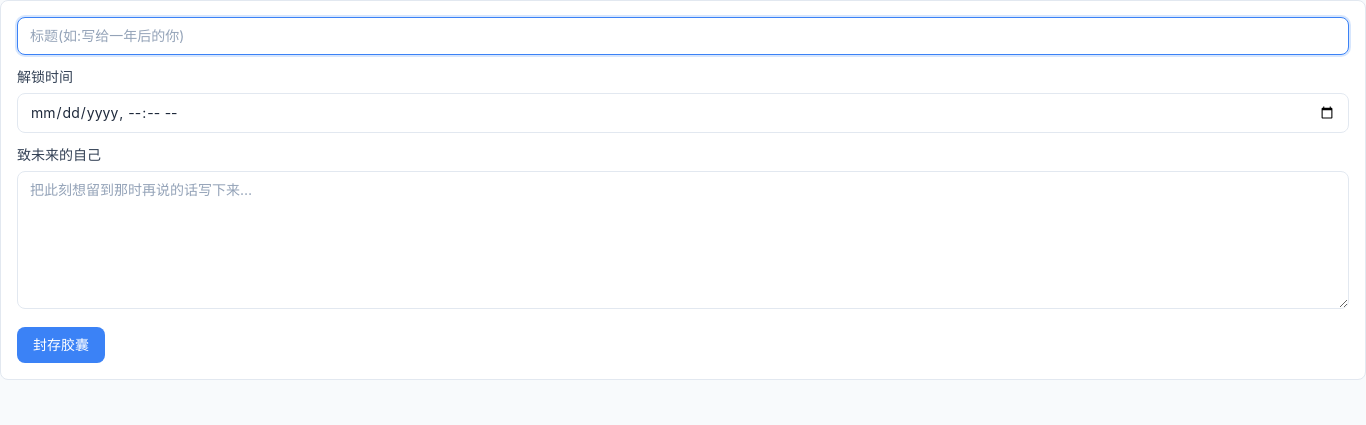
TimeCapsuleEditor › 解锁时间在过去:提交显示"解锁时间必须在未来"
Type "标题" into the field with placeholder "标题(如:写给一年后的你)". click: coordinates (683, 36)
box: x1=17 y1=17 x2=1349 y2=55
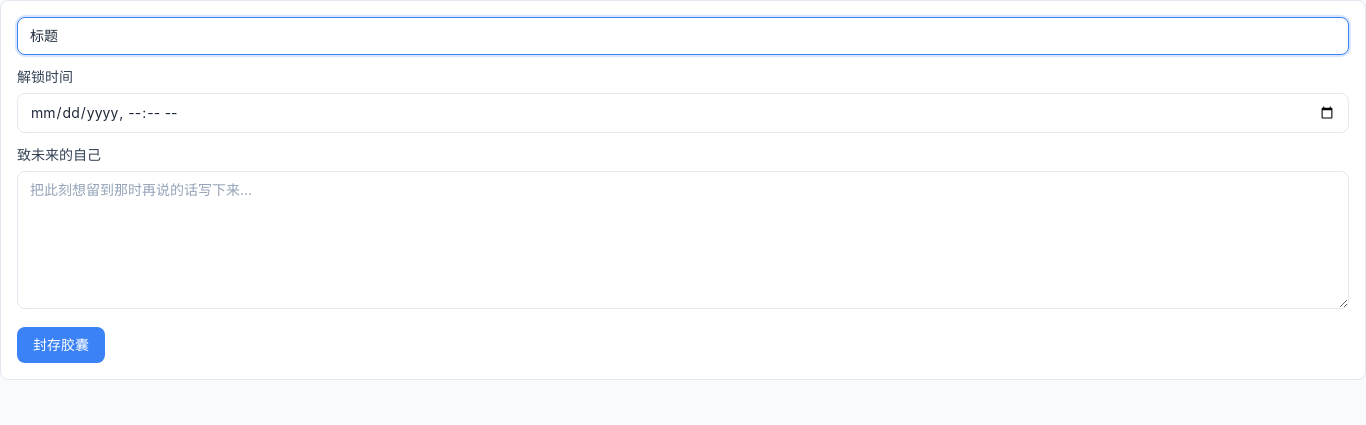
Type "2020-01-01T00:00" into the field labelled "解锁时间". click: coordinates (683, 113)
box: x1=17 y1=93 x2=1349 y2=133
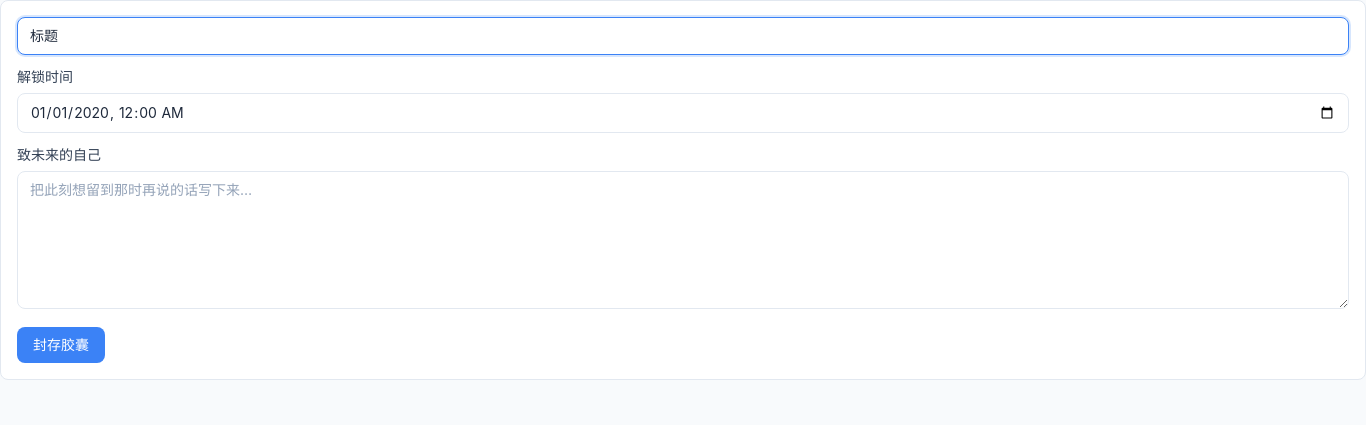
Type "正文" into the text box labelled "致未来的自己". click: coordinates (683, 240)
box: x1=17 y1=171 x2=1349 y2=309
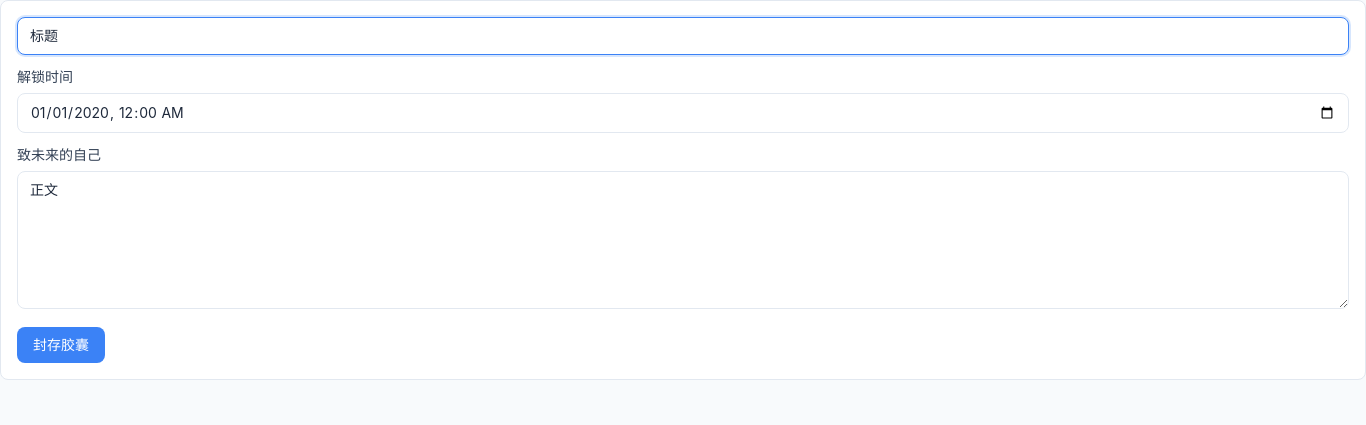
Click the button "封存胶囊". click: coordinates (61, 345)
box: x1=17 y1=327 x2=105 y2=363
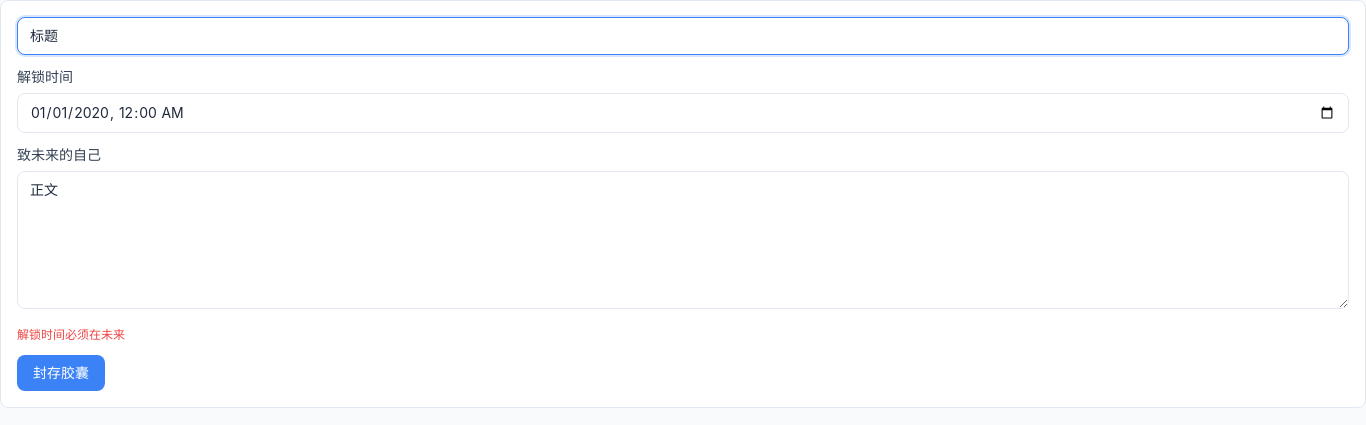
Check: the text "解锁时间必须在未来" is shown, box x1=17 y1=327 x2=125 y2=342
